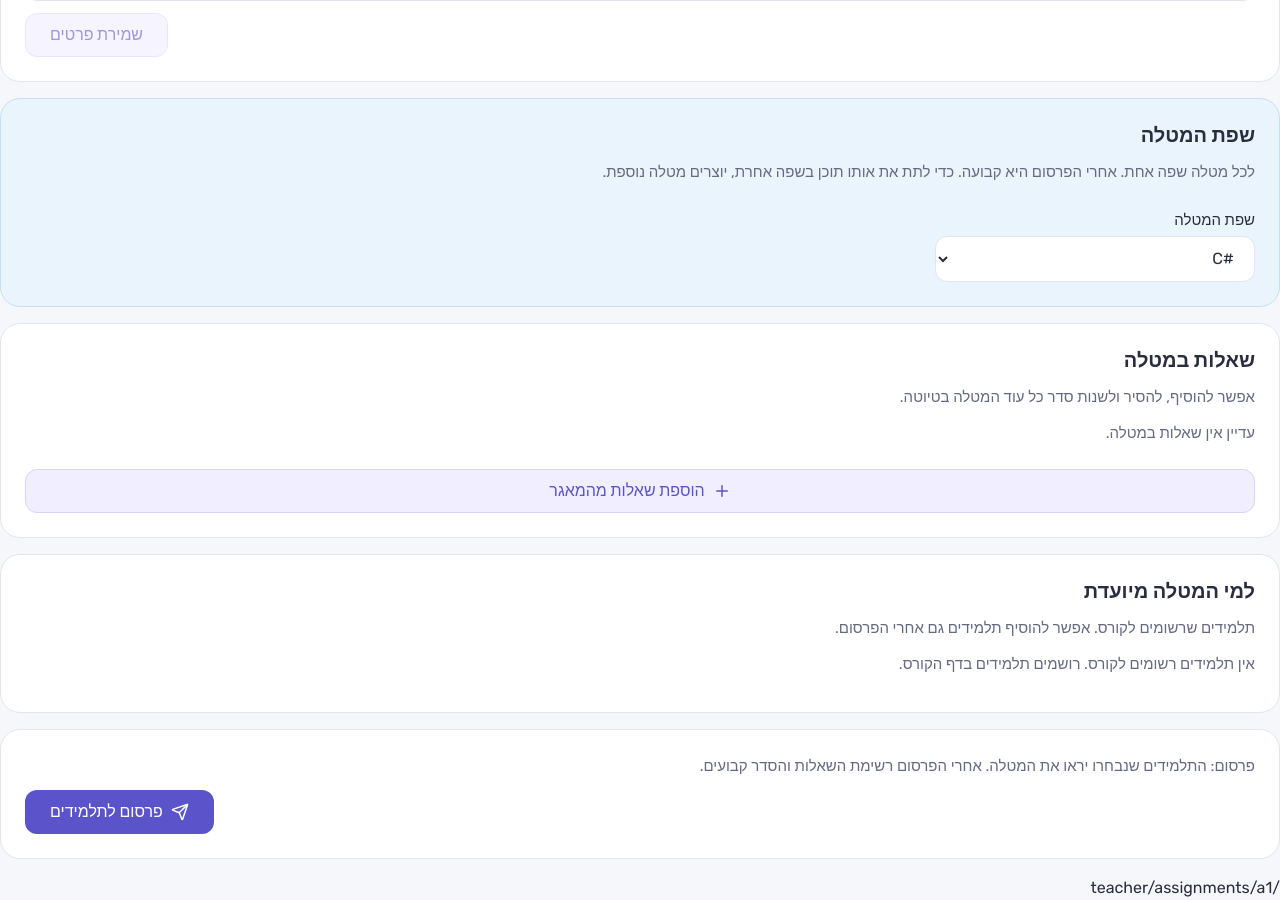
Test: UX FIX 2 — publish feedback › missing variants: names the language and lists the questions with a link to create each variant
(page scrolled)
Step 1. Click the button "פרסום לתלמידים" → [119, 812], box [25,790,214,834]
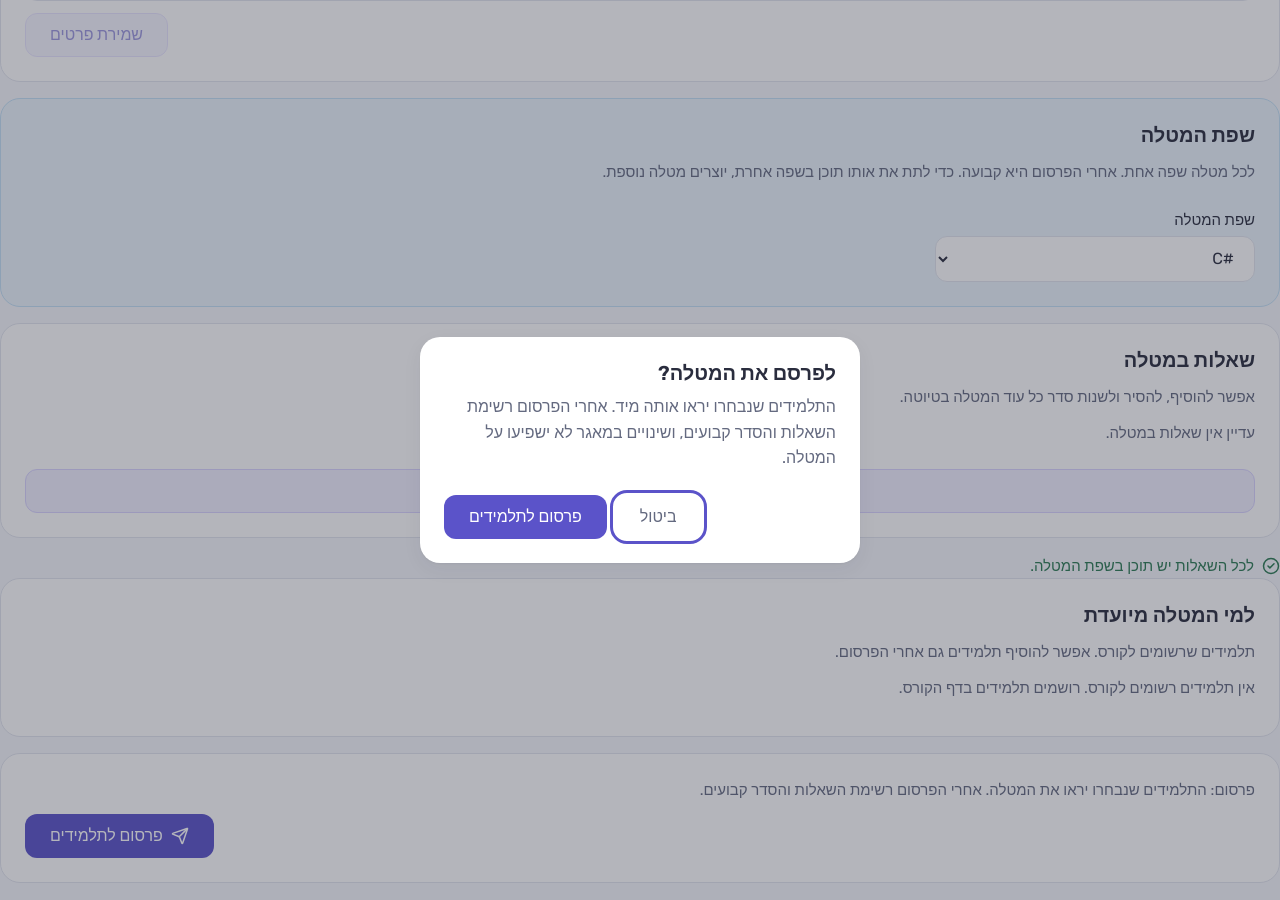
Step 2. Click the button "פרסום לתלמידים" → [525, 517], box [444,495,607,539]
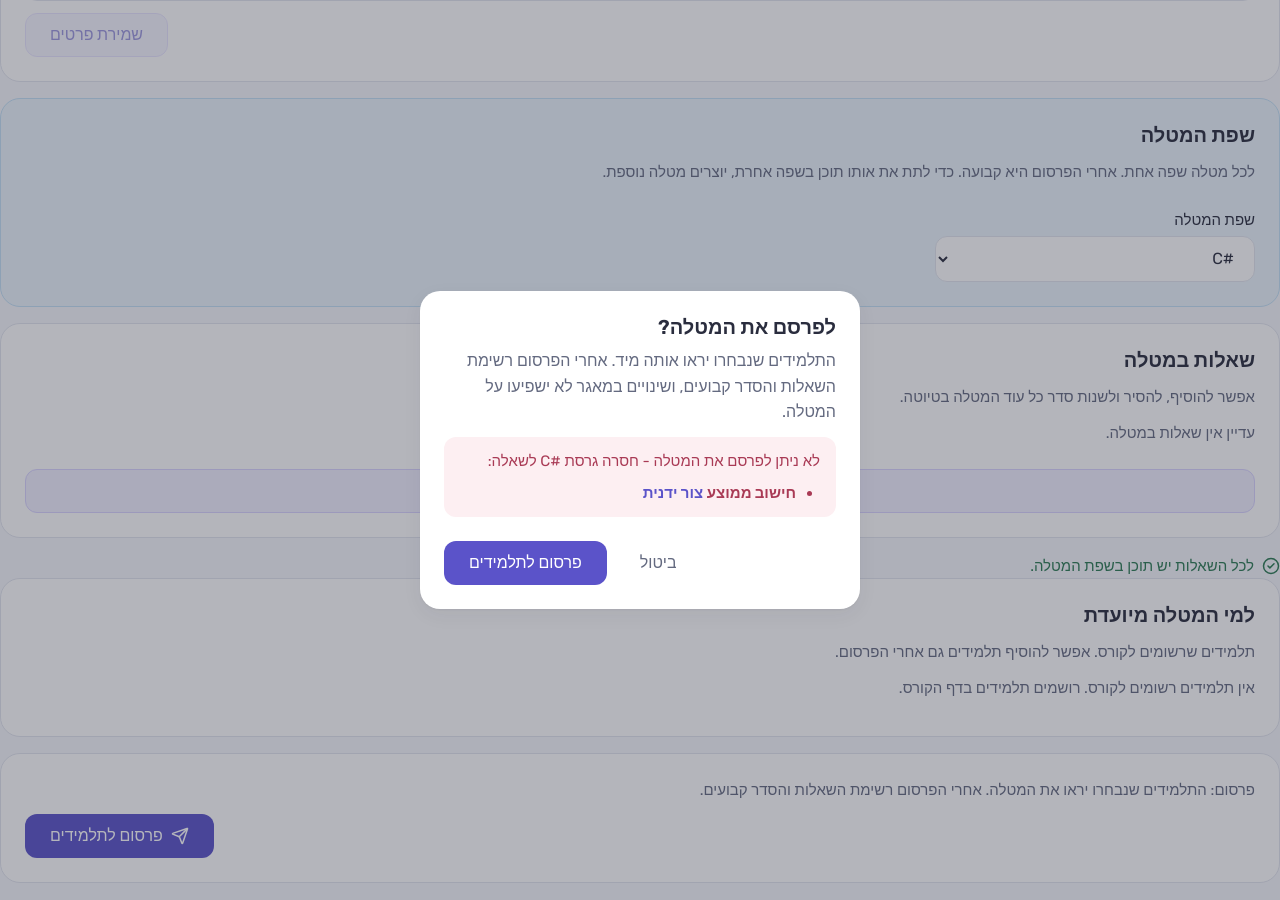
Now the message "לא ניתן לפרסם את המטלה - חסרה גרסת C# לשאלה: חישוב ממוצע צור ידנית" is shown, box [488,452,820,470]
